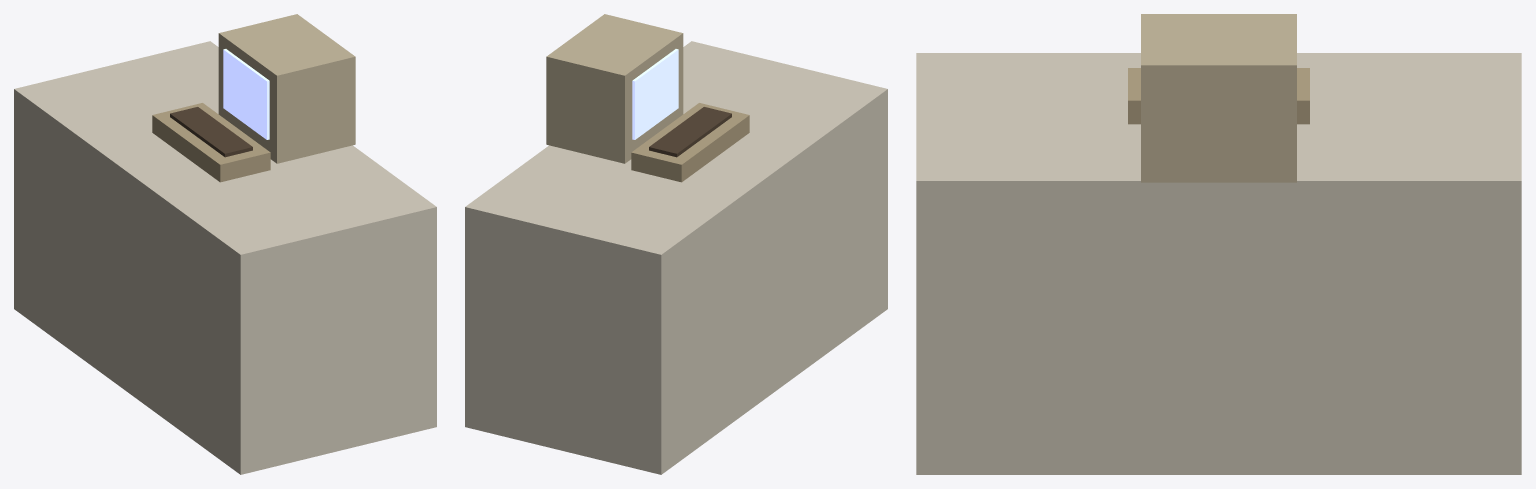
File: computer_display_2.glb
3 renders of one model, left to right at view 1: azimuth 30°, elevation 25°; view 2: azimuth 150°, elevation 25°; view 3: azimuth 270°, elevation 25°, orthographic. The views are drawn at different scales.
Visible parts, largest first — view 1: Box1, Box4, Box2, Box5, Box3; view 2: Box1, Box4, Box2, Box5, Box3; view 3: Box1, Box4, Box2.
Boxes of the visible parts, box(x1,y1,x2,y2) form: Box1: box(14, 41, 436, 474); Box4: box(218, 14, 355, 163); Box2: box(152, 103, 270, 182); Box5: box(223, 49, 269, 139); Box3: box(170, 107, 252, 157); Box1: box(465, 41, 887, 474); Box4: box(546, 14, 683, 163); Box2: box(631, 103, 749, 182); Box5: box(632, 49, 678, 139); Box3: box(649, 107, 731, 157); Box1: box(916, 53, 1521, 474); Box4: box(1141, 14, 1296, 182); Box2: box(1128, 68, 1309, 124).
Size of the model in its own units: 0.71 by 1.05 by 1.4.
